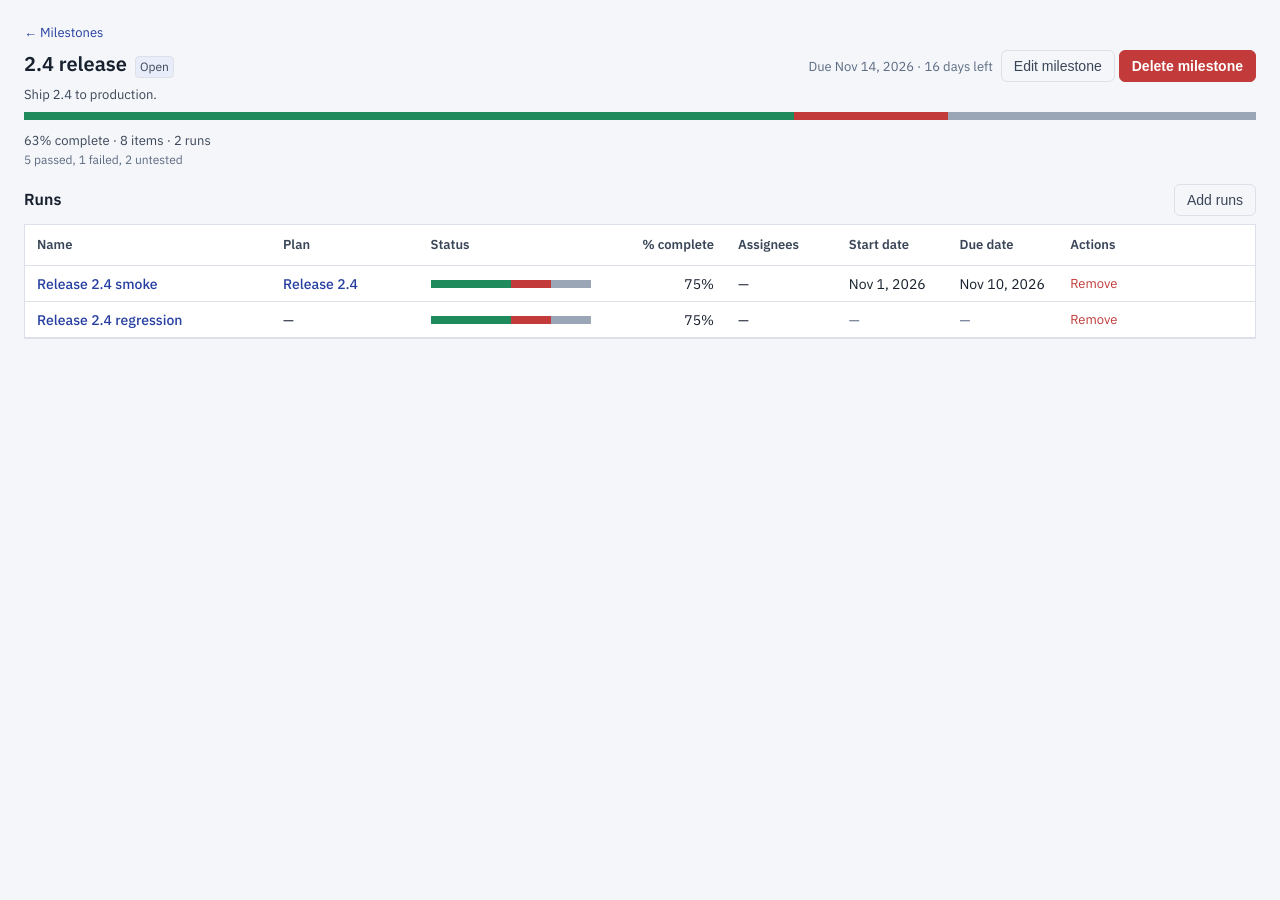
milestone detail › reports a rejected run on its row and keeps the dialog open
The image size is (1280, 900).
Click the button "Add runs" at [1215, 200], box [1174, 184, 1256, 216]
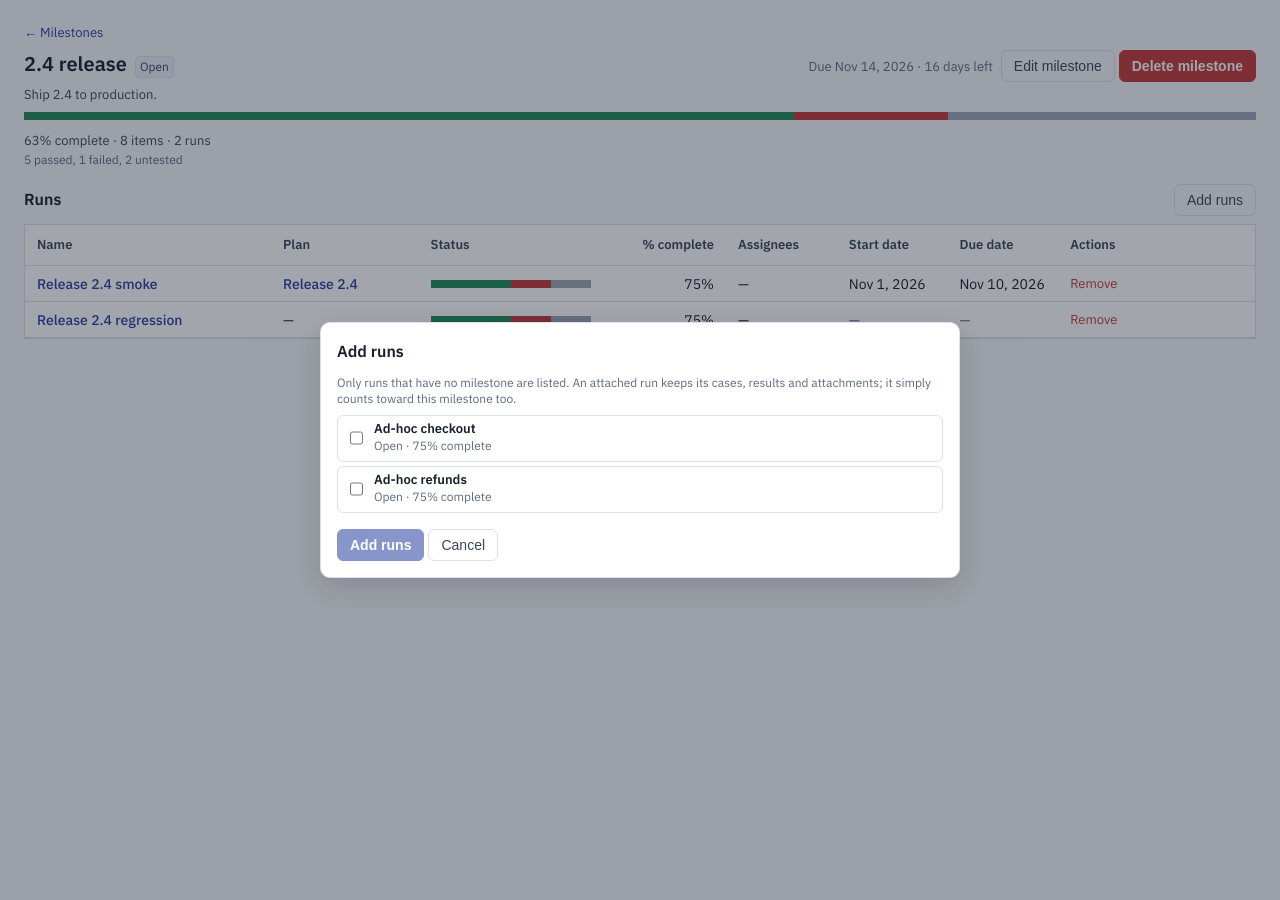
Click the checkbox labelled "Ad-hoc checkout Open · 75% complete" at [356, 438], box [350, 422, 363, 454]
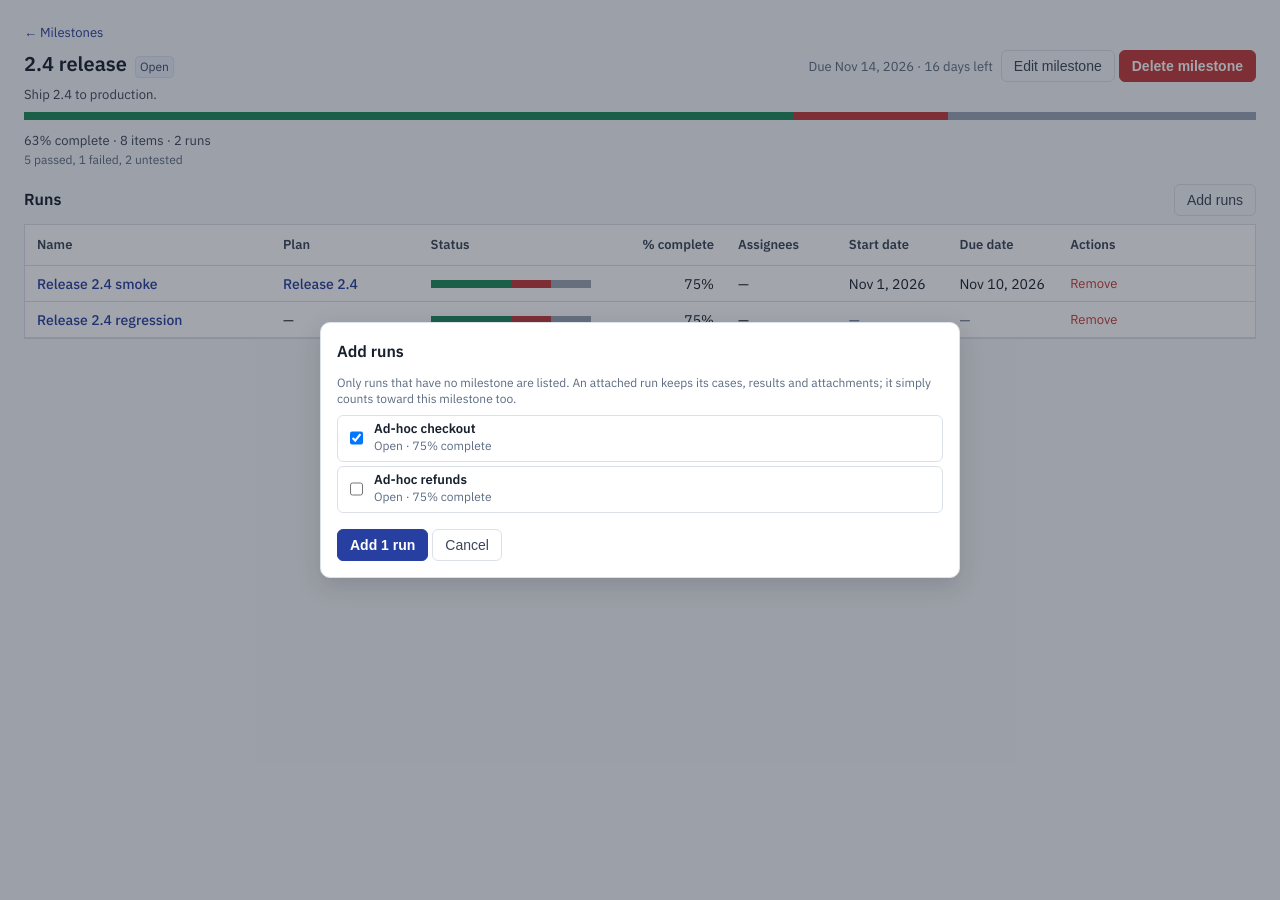
Click the button "Add 1 run" at [383, 545], box [337, 529, 428, 561]
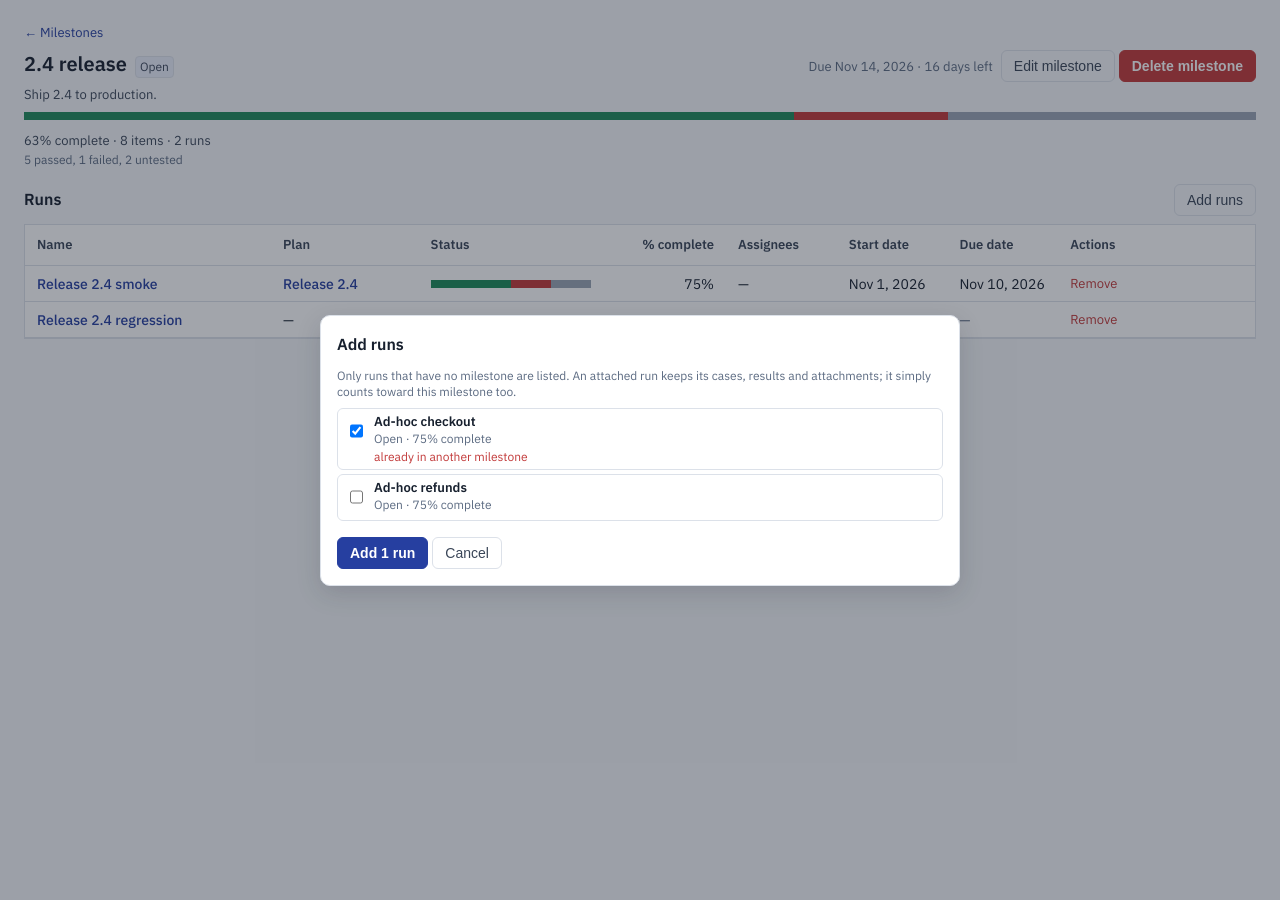
expect the dialog is shown: met, box [320, 314, 960, 586]
expect the text "already in another milestone" is shown: met, box [374, 448, 528, 464]
